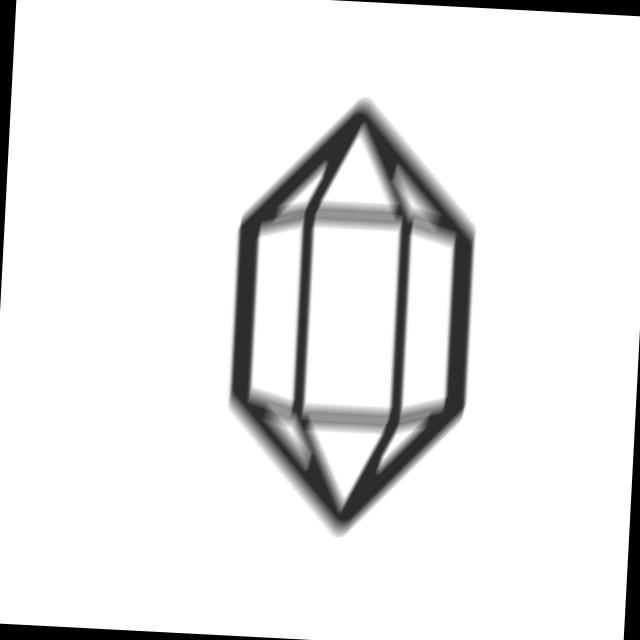crystal: (211, 85, 494, 550)
